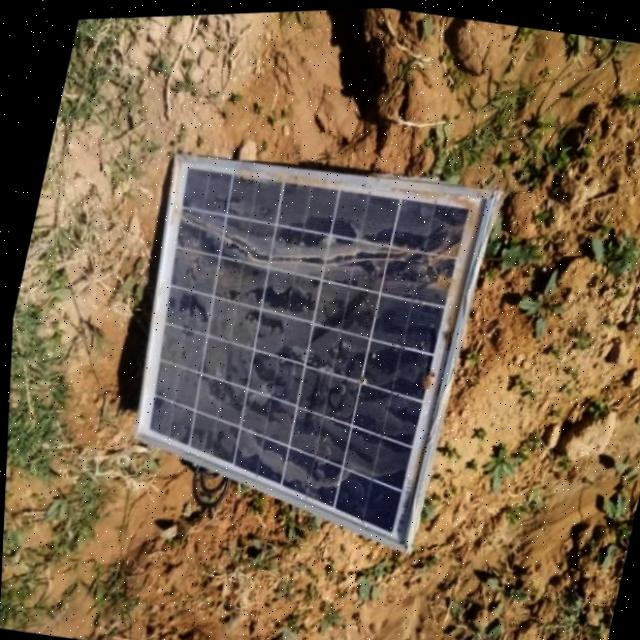Anomaly Solar Panel: (94, 142, 490, 558)
Surface Contaminant: (94, 142, 490, 558)
